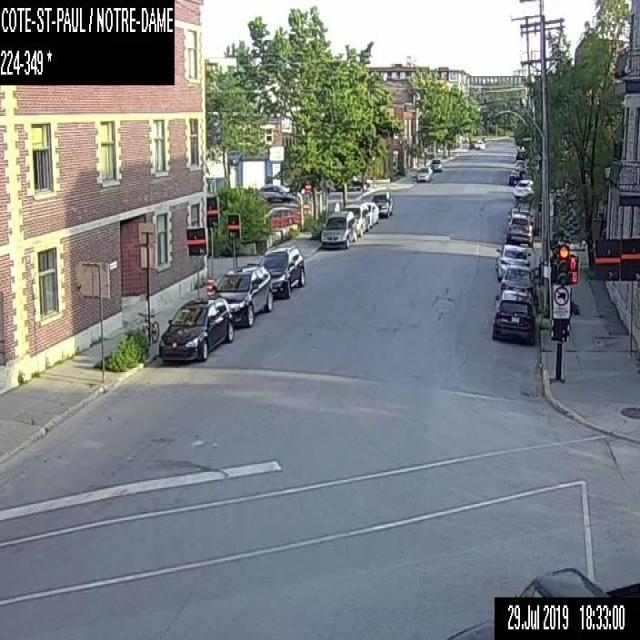construction: (206, 275, 214, 296)
vehicle: (157, 297, 234, 361), (210, 265, 272, 327), (258, 244, 305, 298), (491, 289, 535, 344), (320, 210, 356, 249), (495, 243, 531, 280), (500, 264, 535, 293), (343, 202, 369, 235), (506, 213, 532, 244), (259, 184, 301, 203), (264, 206, 301, 226), (370, 190, 393, 218), (361, 201, 378, 226), (514, 178, 533, 200), (507, 207, 533, 221), (416, 165, 432, 181), (508, 169, 522, 184), (429, 158, 442, 171), (514, 148, 526, 159), (514, 159, 525, 171), (474, 140, 485, 149)
